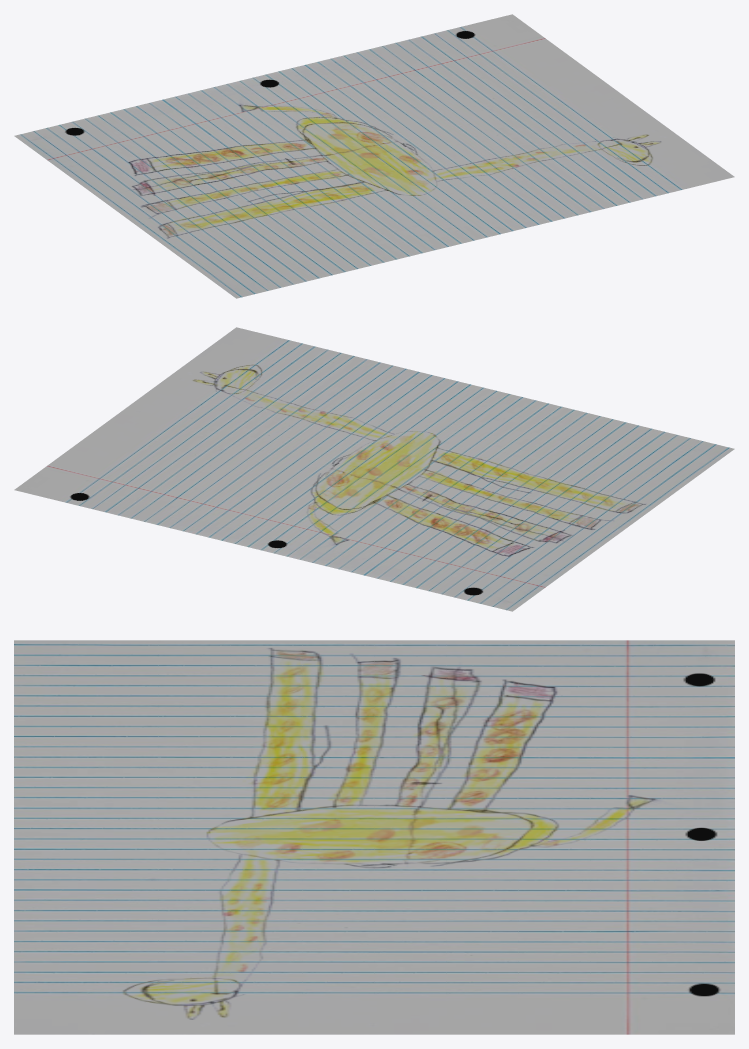
The model's file is SM__Drawing_B.fbx.
3 views of the same model, one above another, from view 1: azimuth 30°, elevation 25°; view 2: azimuth 150°, elevation 25°; view 3: azimuth 270°, elevation 25° (orthographic). The views are drawn at different scales.
Visible parts, largest first — view 1: SM__Drawing_B_LOD0; view 2: SM__Drawing_B_LOD0; view 3: SM__Drawing_B_LOD0.
Boxes of the visible parts, bbox=[...] form: SM__Drawing_B_LOD0: bbox=[14, 14, 734, 298]; SM__Drawing_B_LOD0: bbox=[14, 327, 734, 611]; SM__Drawing_B_LOD0: bbox=[14, 640, 734, 1034].
Bounding box in the file's own units: 32.9 × 25.43 × 4e-07.
1 material, 1 textured.
